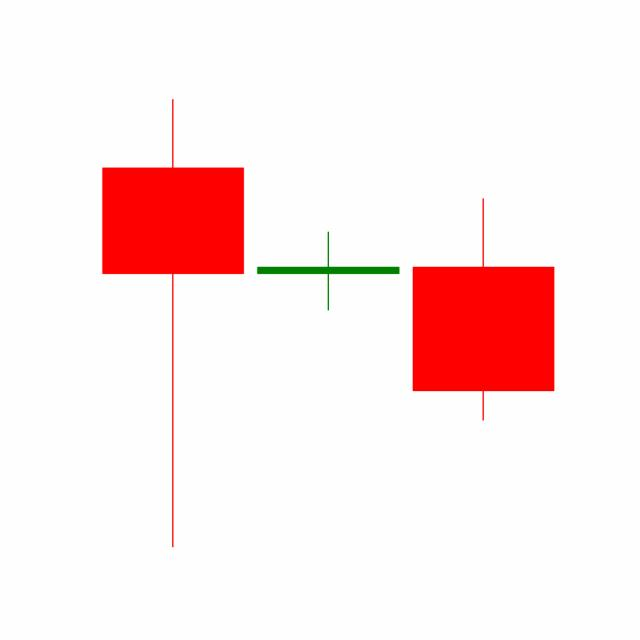Spinning Top: (249, 230, 406, 311)
